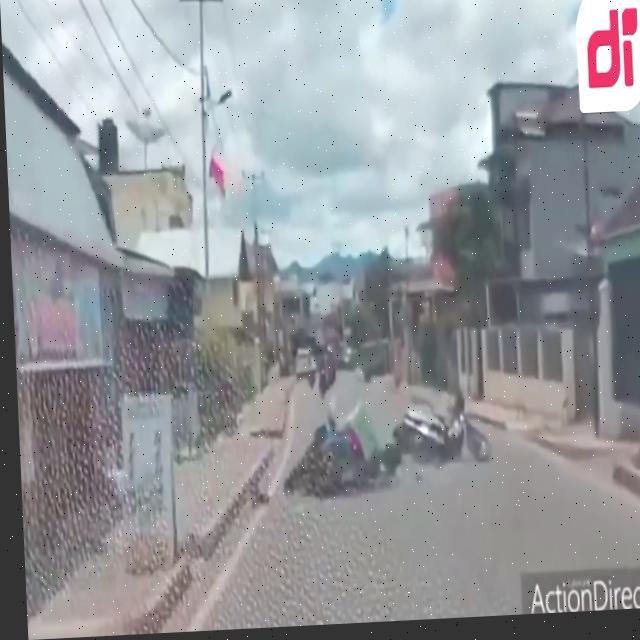multiple_accident: (294, 370, 514, 517)
